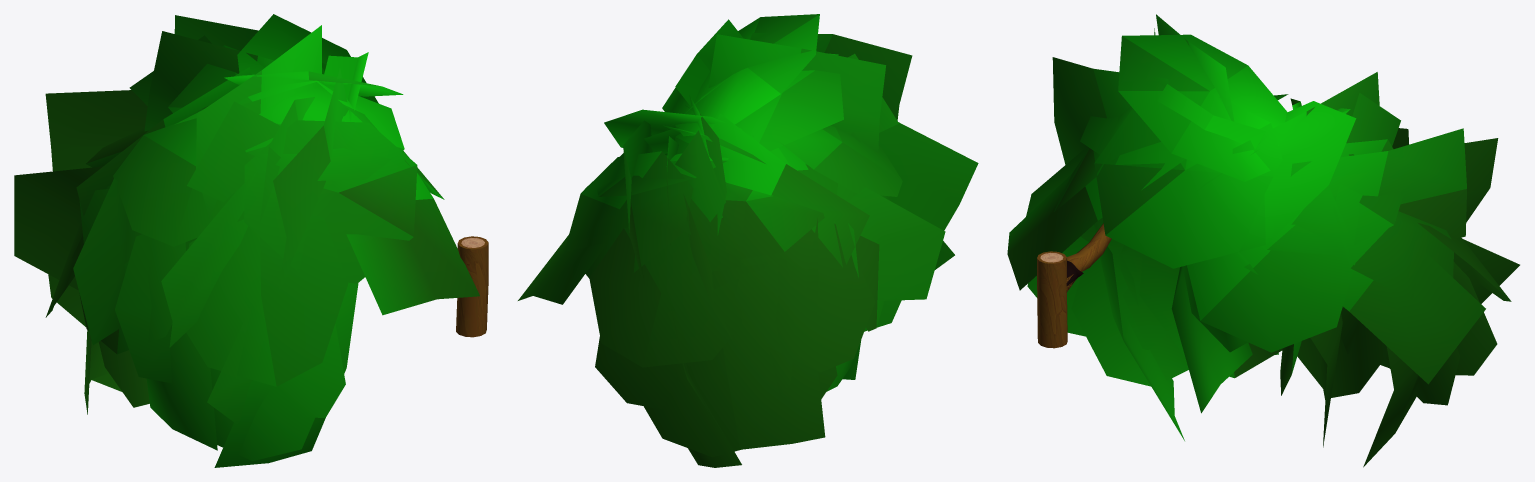
The model's file is obj_harvests_trees_leafy02_p03.fbx.
The picture shows the model from 3 angles, left to right: view 1: azimuth 30°, elevation 25°; view 2: azimuth 150°, elevation 25°; view 3: azimuth 270°, elevation 25°; orthographic projection. The views are drawn at different scales.
Parts seen in each view (by area): view 1: chunk03; view 2: chunk03; view 3: chunk03.
Part boxes in pixels (x1=…): chunk03: x1=14, y1=14, x2=488, y2=467; chunk03: x1=518, y1=14, x2=978, y2=467; chunk03: x1=1007, y1=14, x2=1519, y2=467.
Size of the model in its own units: 36.71 by 39.96 by 43.82.
